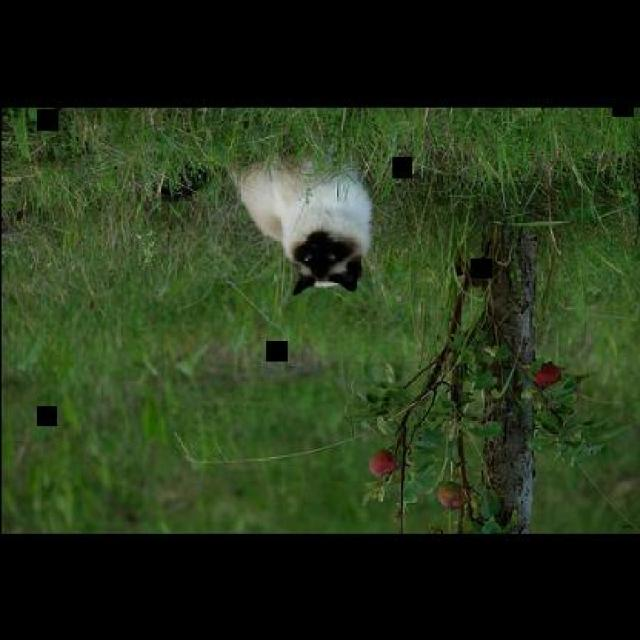unauthorized: (228, 150, 374, 296)
